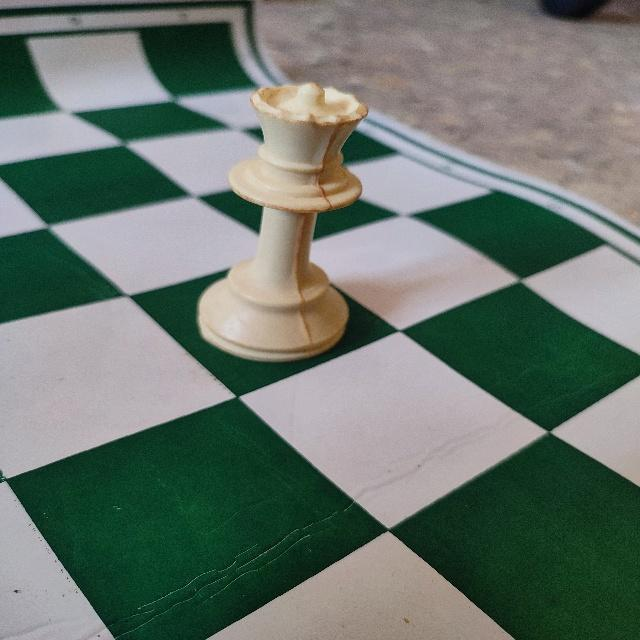Queen: (184, 71, 369, 366)
